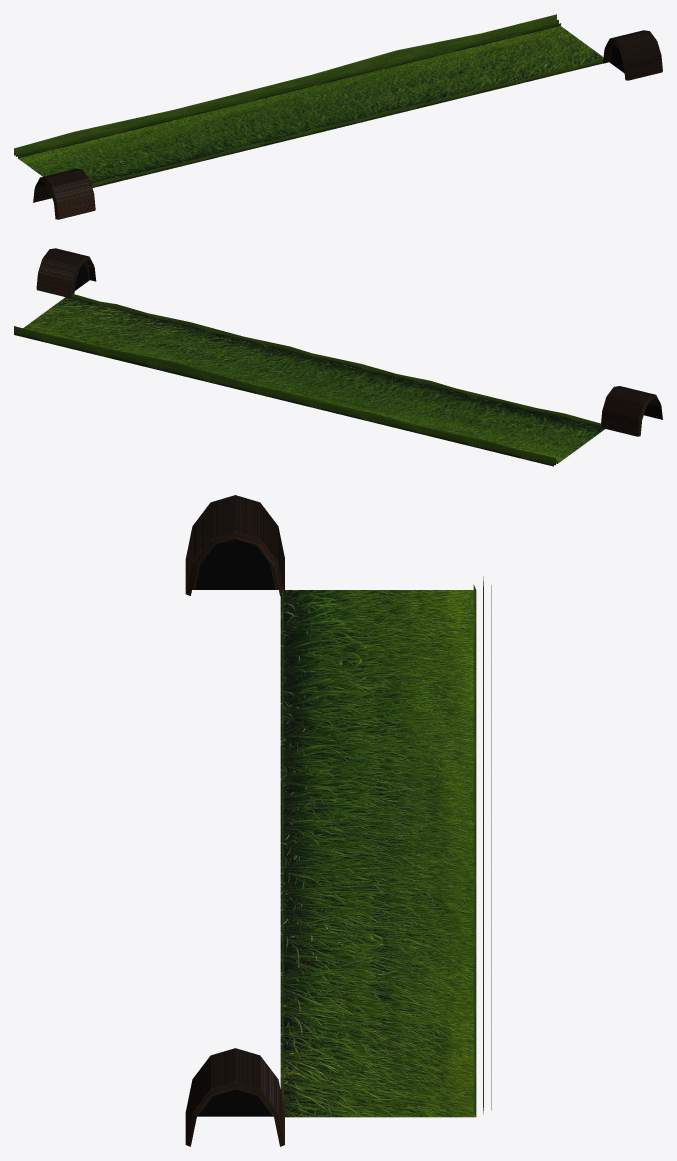
Rendered from tanbo.obj.
3 views of the same model, one above another, from view 1: azimuth 30°, elevation 25°; view 2: azimuth 150°, elevation 25°; view 3: azimuth 270°, elevation 25° (orthographic). The views are drawn at different scales.
Bounding box in the file's own units: 85.54 × 4.34 × 18.73.
1 material, 1 textured.
